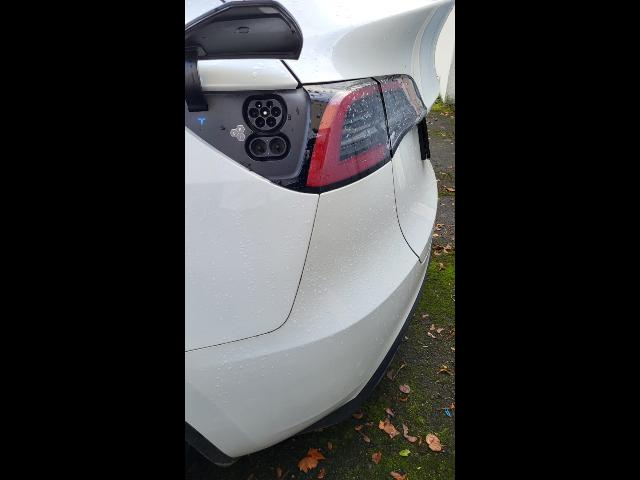inlet: (248, 99, 282, 130)
inlet-above-left: (255, 101, 262, 108)
inlet-above-right: (266, 101, 274, 108)
inlet-below-left: (255, 117, 265, 127)
inlet-below-right: (266, 116, 276, 127)
inlet-circle: (260, 107, 270, 117)
inlet-circle-left: (249, 107, 259, 118)
inlet-circle-right: (271, 106, 281, 117)
inlet-minus: (269, 138, 285, 154)
inlet-plus: (251, 139, 267, 156)
